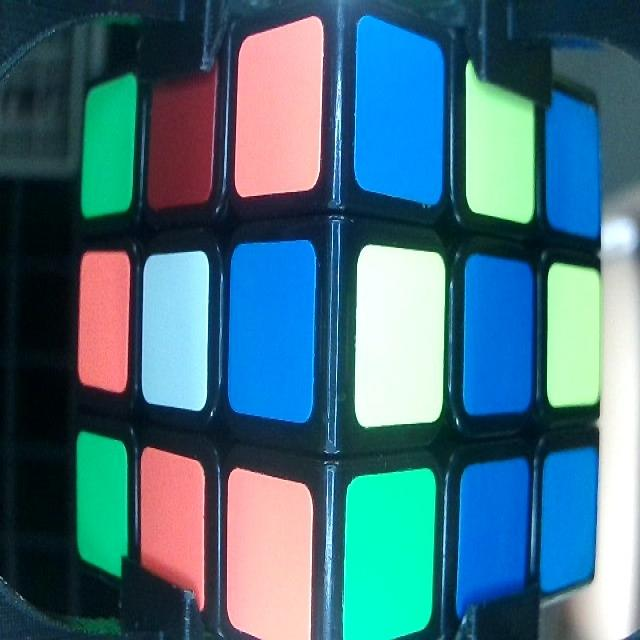b: (358, 15, 442, 204), (232, 247, 312, 418), (458, 461, 530, 617), (465, 259, 531, 414), (549, 95, 602, 239), (542, 456, 594, 592)
g: (343, 475, 436, 639), (76, 434, 128, 576), (83, 85, 131, 214)
o: (238, 24, 324, 198), (228, 470, 312, 640), (143, 443, 202, 604), (76, 251, 126, 390)
r: (153, 56, 215, 206)
w: (358, 246, 442, 424), (142, 258, 208, 407), (470, 71, 534, 217), (549, 268, 599, 407)
